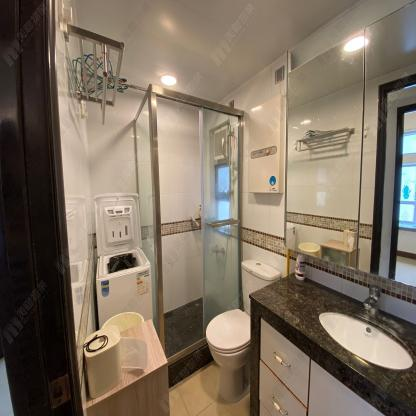Exhaust Fan: (214, 124, 229, 160)
Toilet: (205, 259, 281, 400)
Toilet Sink: (298, 289, 416, 408)
Water Heater: (248, 94, 286, 193)
